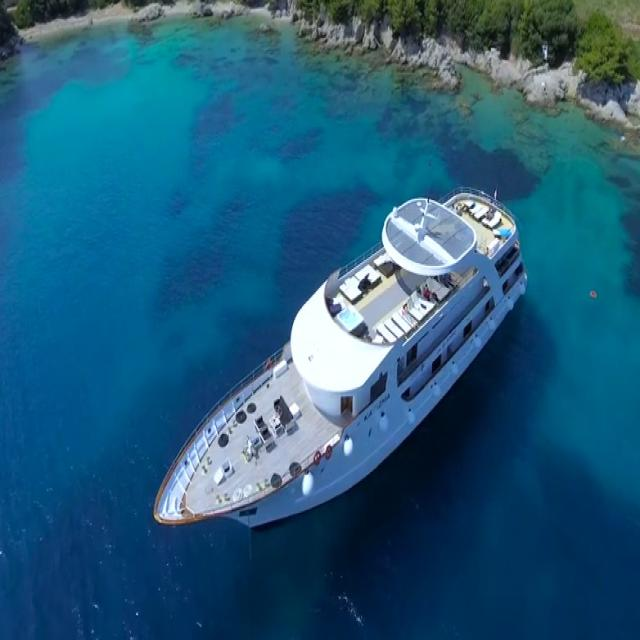passenger ship: (146, 180, 528, 550)
